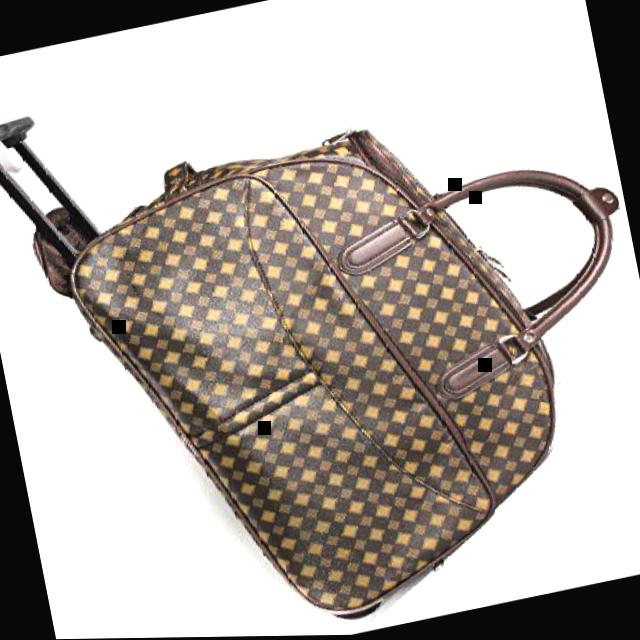luggage: (45, 85, 610, 639)
